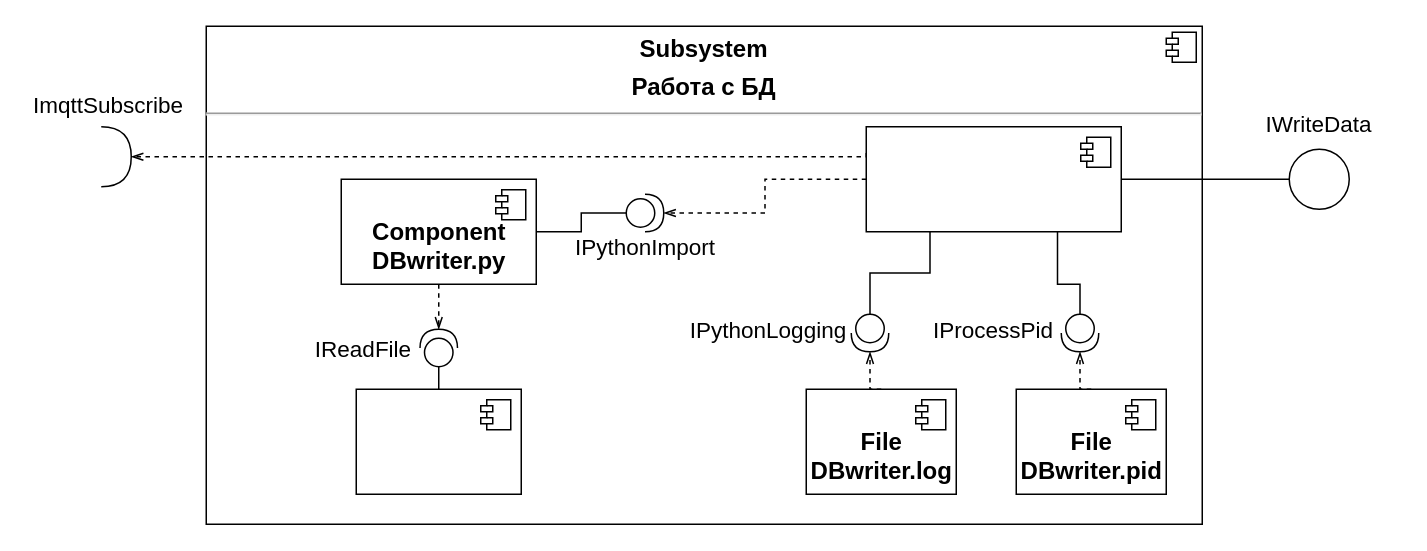
Image size: 1427x551. Some labels were removed from this diagram. Each missing label, with the box of its shape:
Component DBwriter Daemon.py: (865, 125, 1121, 232)
File DBwriter .conf: (355, 388, 521, 494)
